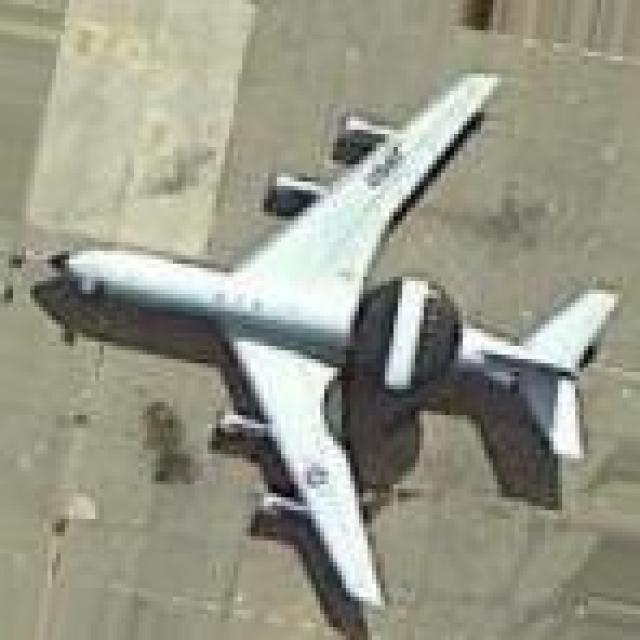E-3_TopDown: (26, 61, 623, 632)
